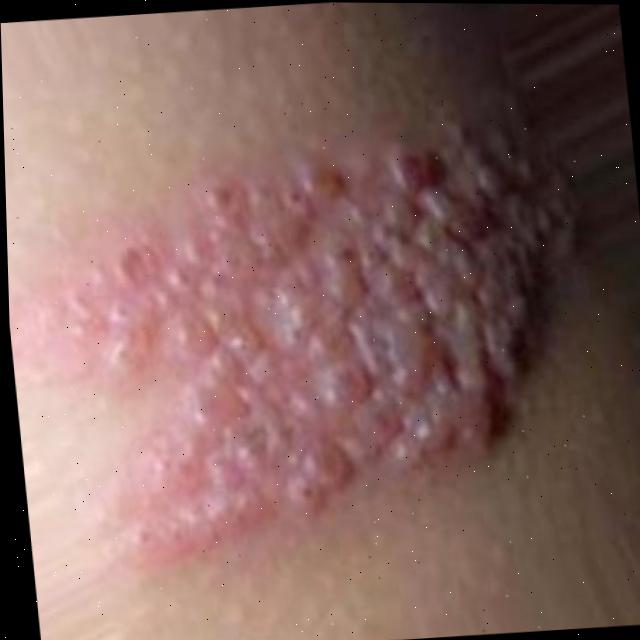Shingles: (47, 90, 590, 560)
